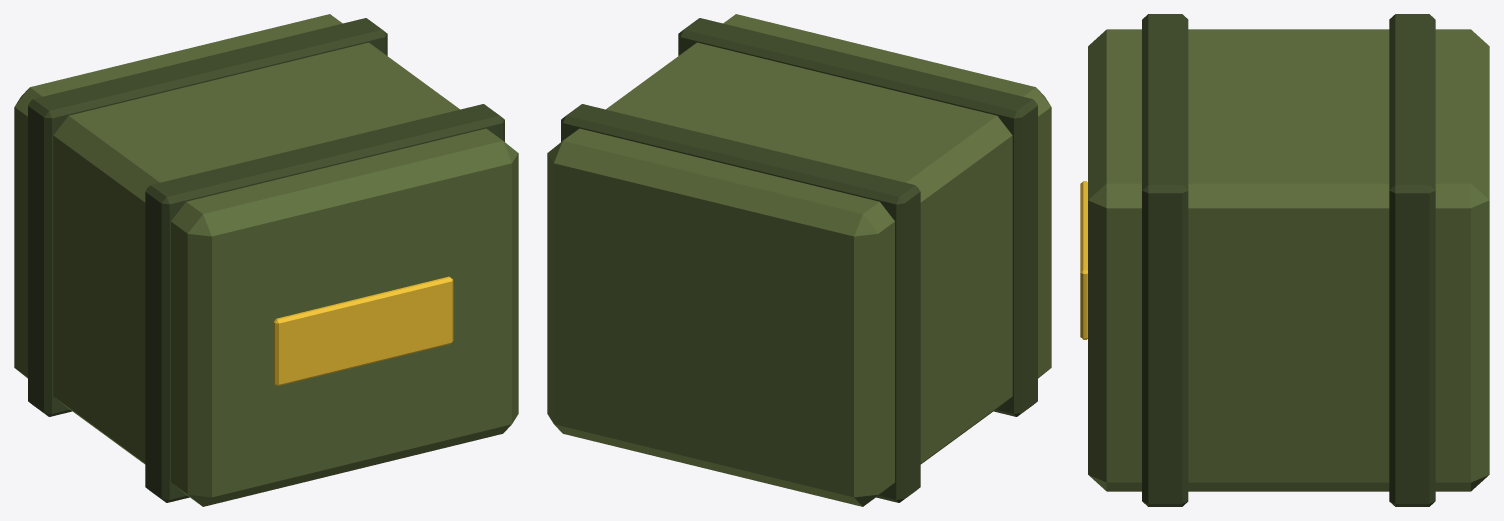
Rendered from SupplyCrate.fbx.
The picture shows the model from 3 angles, left to right: view 1: azimuth 30°, elevation 25°; view 2: azimuth 150°, elevation 25°; view 3: azimuth 270°, elevation 25°; orthographic projection. The views are drawn at different scales.
Visible parts, largest first — view 1: SupplyCrate; view 2: SupplyCrate; view 3: SupplyCrate.
Part boxes in pixels (left/top/right/bottom): SupplyCrate: left=14, top=14, right=518, bottom=506; SupplyCrate: left=547, top=14, right=1051, bottom=506; SupplyCrate: left=1080, top=14, right=1489, bottom=506.
Size of the model in its own units: 2.7 by 2.3 by 2.65.
1 material, 1 textured.
